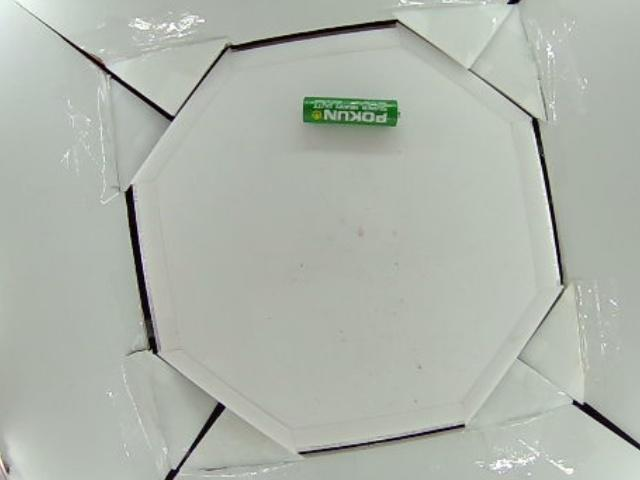Battery: (301, 96, 401, 128)
